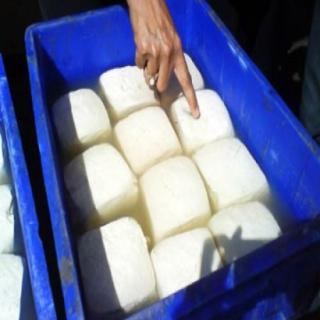Tahu: (72, 215, 162, 315), (137, 153, 214, 243), (103, 100, 189, 179)
